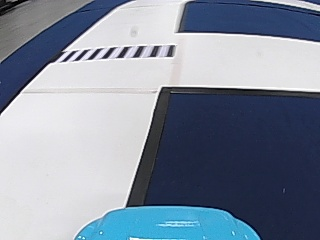CrossWalk: (63, 44, 174, 60)
